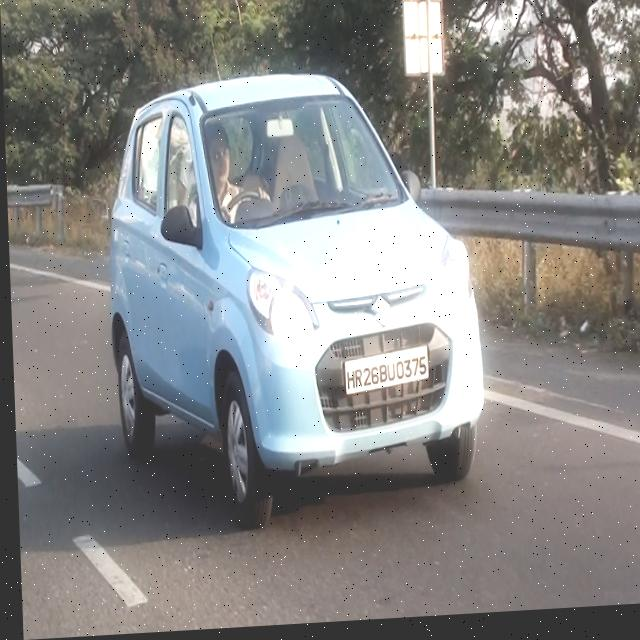plate: (338, 348, 427, 400)
